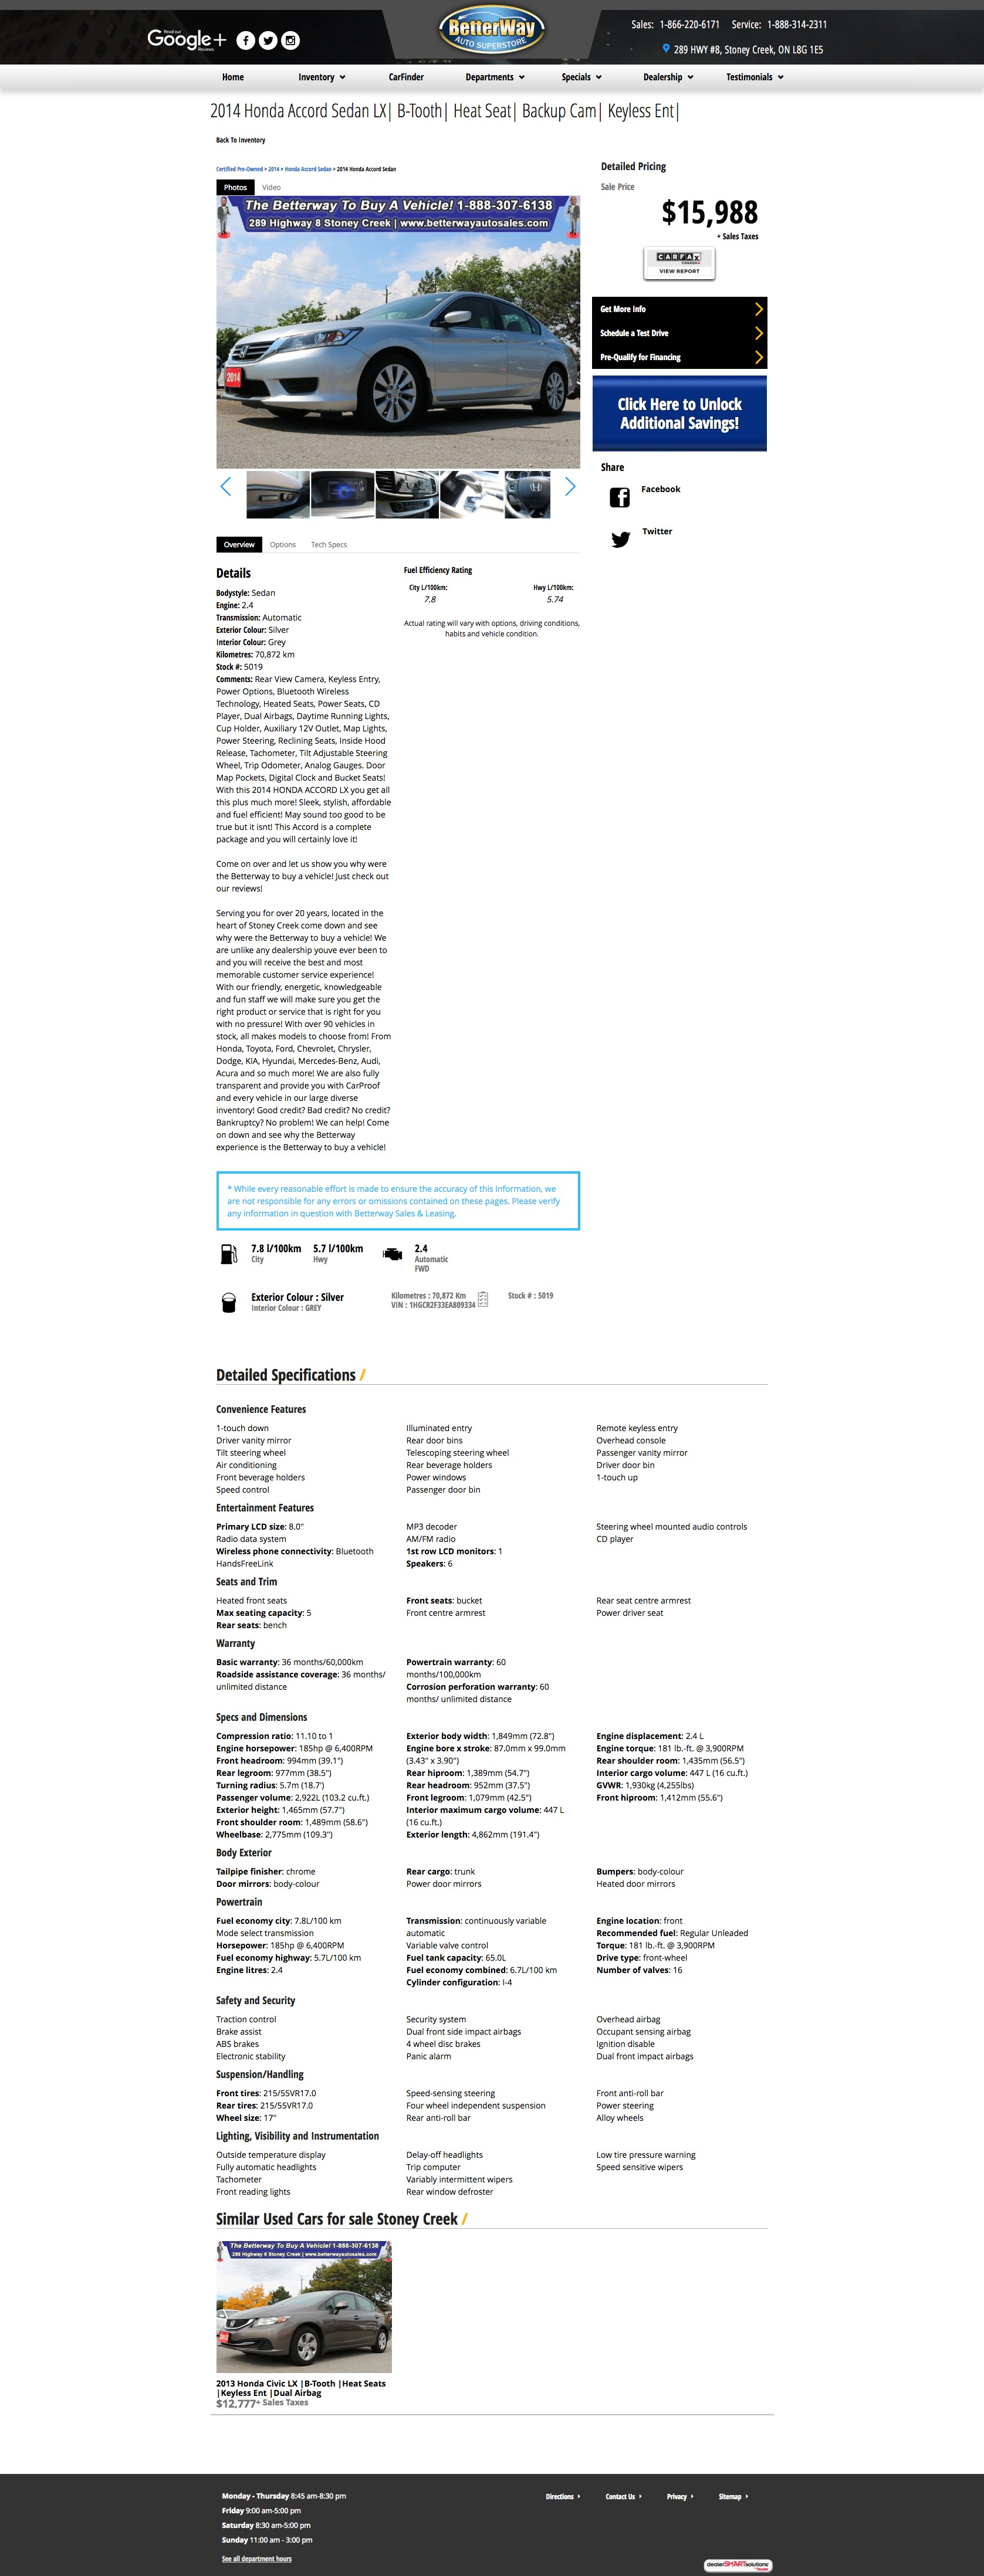car: (565, 476, 577, 498)
